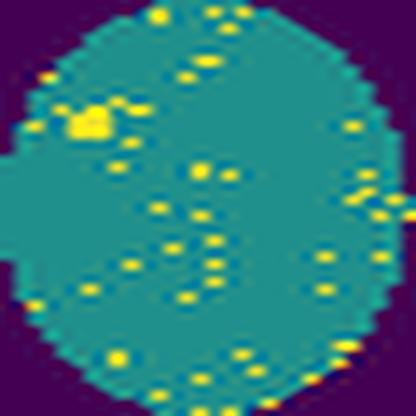Loc: (51, 95, 158, 141)
